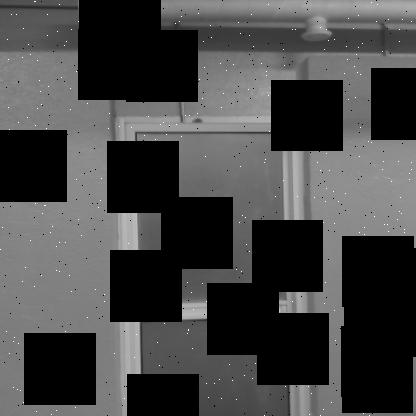Porte: (112, 114, 315, 415)
